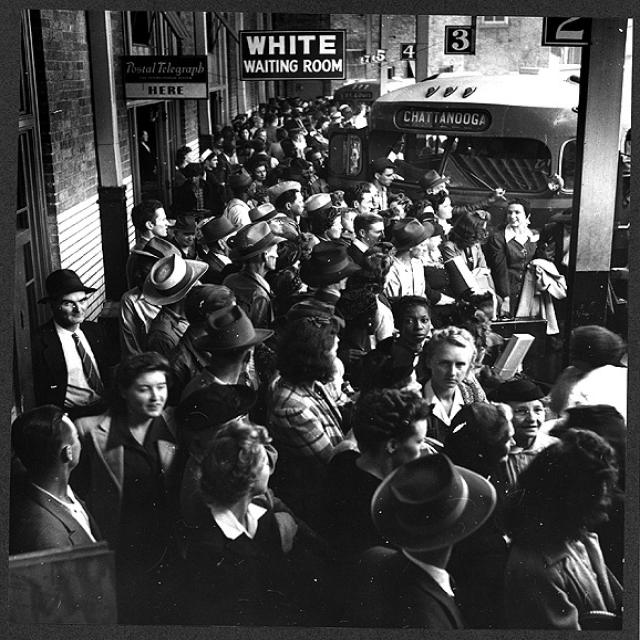body: (71, 349, 185, 628), (347, 448, 502, 639), (174, 412, 303, 626), (500, 427, 624, 630), (329, 384, 433, 563), (267, 310, 351, 510), (7, 402, 108, 557), (28, 266, 120, 416), (487, 195, 569, 338), (169, 282, 256, 408), (175, 303, 277, 404), (415, 325, 491, 458), (482, 372, 564, 488), (379, 215, 437, 350), (120, 235, 183, 358), (221, 220, 289, 330), (143, 253, 211, 356), (442, 401, 517, 485), (566, 318, 627, 415), (376, 294, 432, 399), (441, 207, 497, 303), (420, 168, 505, 225), (123, 198, 174, 292), (232, 91, 368, 126), (298, 239, 364, 306), (197, 214, 245, 287), (423, 220, 453, 333), (167, 212, 208, 284), (173, 161, 217, 218), (266, 179, 306, 238), (344, 211, 386, 267), (170, 143, 195, 236), (381, 136, 447, 170), (359, 251, 396, 310), (222, 170, 257, 232), (302, 191, 339, 246), (247, 202, 289, 250), (197, 146, 224, 218), (368, 159, 398, 211), (168, 216, 200, 262), (428, 191, 457, 241), (210, 126, 252, 160), (358, 180, 391, 221), (342, 182, 377, 216), (298, 160, 325, 202), (309, 208, 344, 240), (245, 138, 280, 170), (320, 204, 349, 242), (279, 121, 307, 160), (136, 128, 155, 181), (292, 232, 322, 264), (267, 127, 290, 162), (385, 192, 413, 220), (340, 206, 360, 242), (410, 198, 436, 222), (249, 161, 268, 187), (279, 137, 299, 160), (304, 148, 324, 170), (251, 126, 269, 144), (317, 128, 334, 146)
